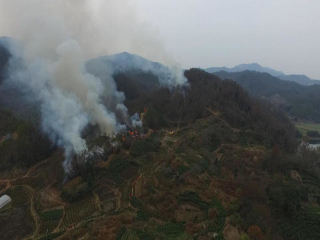smoke: (8, 9, 190, 177)
